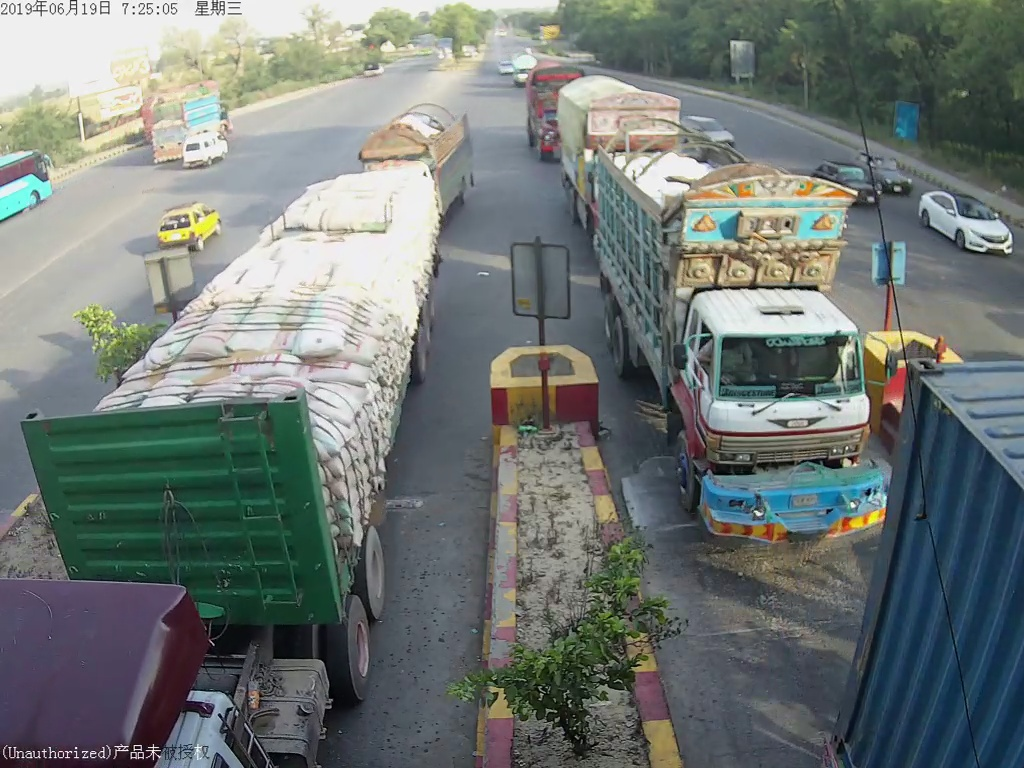Cat-4: (595, 121, 883, 547)
